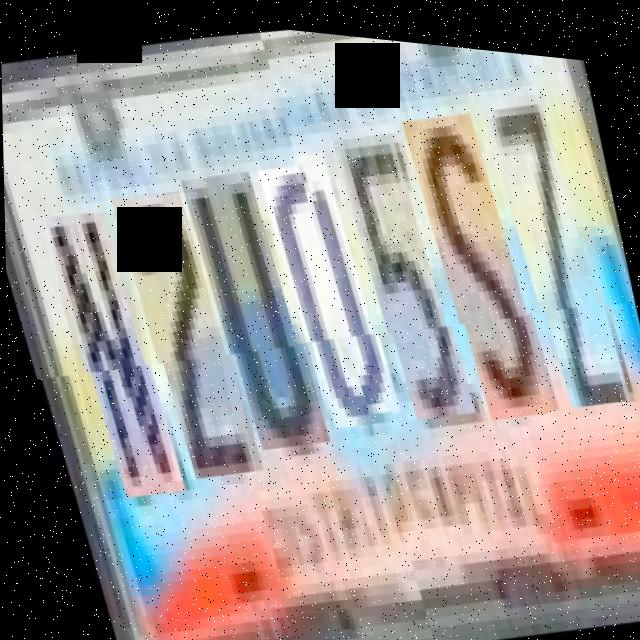0: (258, 149, 397, 435)
2: (112, 180, 256, 485)
5: (338, 130, 472, 432)
N: (43, 202, 178, 504)
S: (407, 107, 556, 433)
U: (183, 159, 323, 455)
Z: (485, 88, 628, 420)
